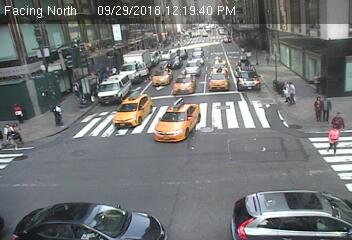car: (11, 200, 166, 240), (230, 191, 352, 238), (155, 98, 202, 143), (112, 90, 156, 129), (118, 48, 151, 83), (99, 71, 130, 102), (170, 72, 197, 95), (236, 67, 260, 92), (150, 64, 173, 86), (209, 68, 230, 91), (147, 47, 160, 65), (211, 54, 227, 68), (186, 60, 201, 74), (220, 32, 234, 44), (190, 48, 204, 60), (168, 55, 181, 67), (189, 29, 198, 38), (201, 31, 209, 37)
